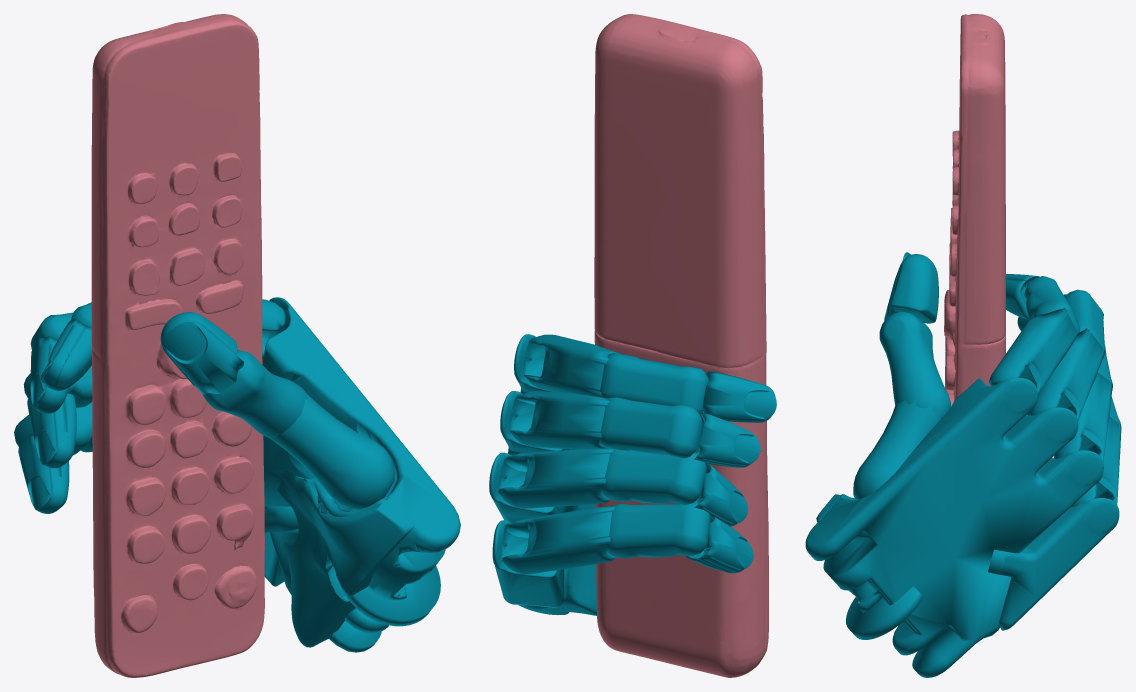
3 renders of one model, left to right at view 1: azimuth 30°, elevation 25°; view 2: azimuth 150°, elevation 25°; view 3: azimuth 270°, elevation 25°, orthographic. The views are drawn at different scales.
Visible parts, largest first — view 1: world; view 2: world; view 3: world.
Part boxes in pixels (x1,y1,x2,y2): world: (14,14,460,677); world: (489,14,776,677); world: (805,14,1121,677).
Size of the model in its own units: 0.1357 by 0.2538 by 0.1275.
